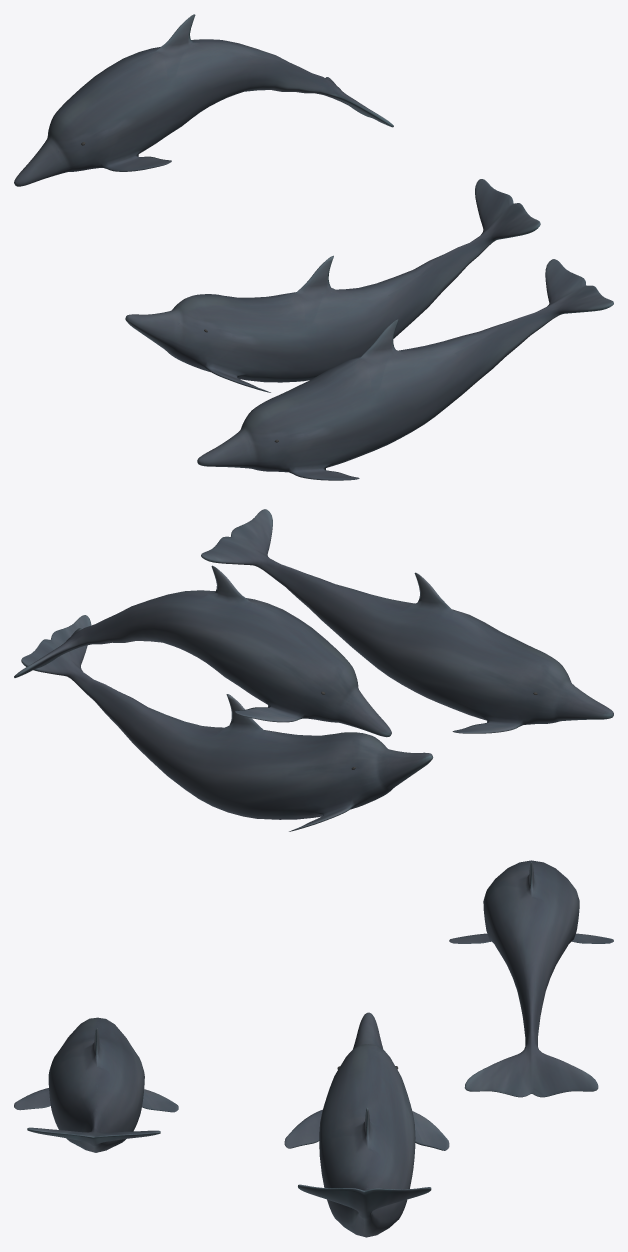
Rendered from dolphin.glb.
3 views of the same model, one above another, from view 1: azimuth 30°, elevation 25°; view 2: azimuth 150°, elevation 25°; view 3: azimuth 270°, elevation 25° (orthographic). The views are drawn at different scales.
Parts seen in each view (by area): view 1: Cube.003, Cube.002, Cube.001; view 2: Cube.003, Cube.002, Cube.001; view 3: Cube.002, Cube.001, Cube.003.
Part boxes in pixels (x1,y1,x2,y2): Cube.003: (197,259,613,480); Cube.002: (125,179,540,392); Cube.001: (14,14,393,186); Cube.003: (201,509,613,733); Cube.002: (21,615,433,831); Cube.001: (14,565,391,737); Cube.002: (284,1012,449,1237); Cube.001: (449,860,613,1097); Cube.003: (14,1017,178,1152).
Size of the model in its own units: 0.7868 by 0.5307 by 0.8651.
Materials: 2 (1 with a texture image).
